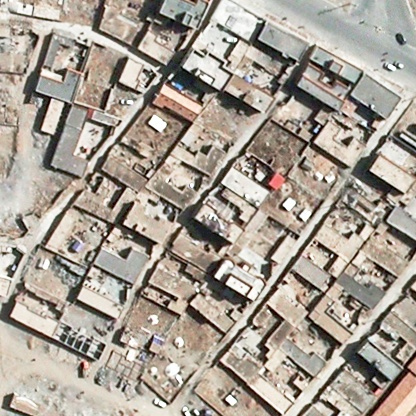collapsed: (335, 178, 388, 224), (47, 256, 86, 289), (202, 214, 234, 238)
